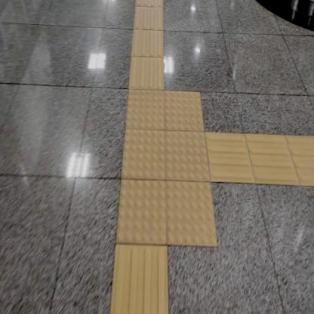Podoctatil: (101, 68, 233, 264), (212, 134, 313, 182), (110, 247, 172, 313), (127, 0, 164, 91)
